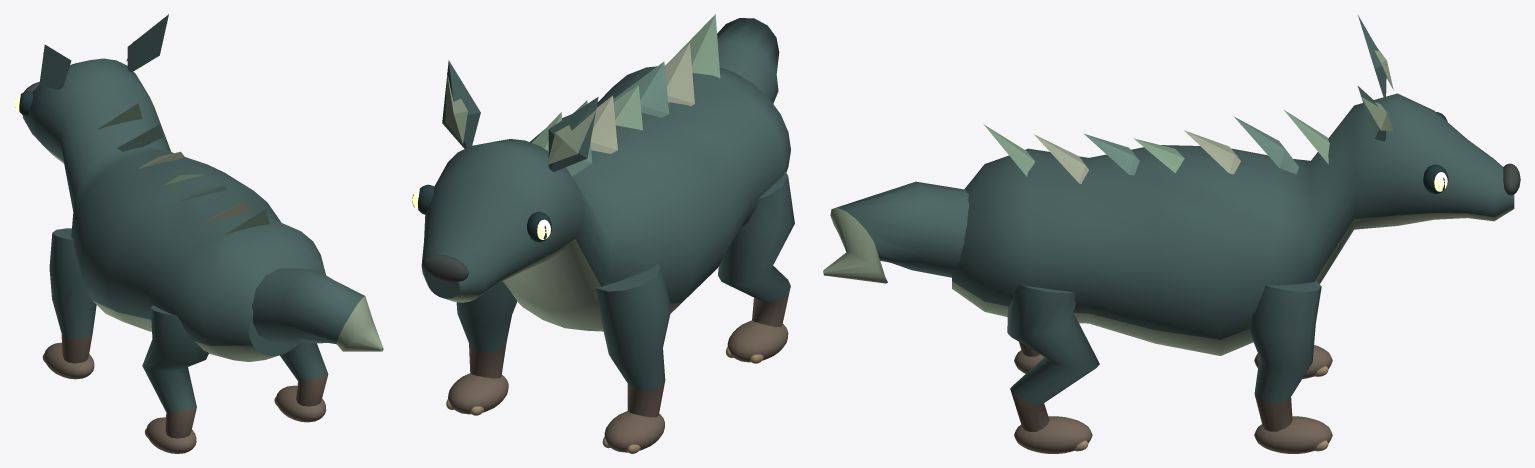
File: hound.glb
The picture shows the model from 3 angles, left to right: view 1: azimuth 30°, elevation 25°; view 2: azimuth 150°, elevation 25°; view 3: azimuth 270°, elevation 25°; orthographic projection. The views are drawn at different scales.
Visible parts, largest first — view 1: Body, Walk02, Walk00, Walk03; view 2: Body, Walk00, Walk02, Walk01; view 3: Body, Walk03, Walk01.
Part boxes in pixels (x1,y1,x2,y2): Body: [14, 14, 383, 361]; Walk02: [142, 305, 208, 453]; Walk00: [42, 228, 96, 379]; Walk03: [274, 343, 328, 422]; Body: [412, 14, 790, 331]; Walk00: [596, 263, 671, 453]; Walk02: [718, 171, 794, 363]; Walk01: [446, 281, 516, 415]; Body: [823, 14, 1520, 355]; Walk03: [1007, 284, 1099, 453]; Walk01: [1249, 281, 1332, 453].
Bounding box in the file's own units: 0.704 × 1.2 × 2.09.
2 materials, 1 textured.
